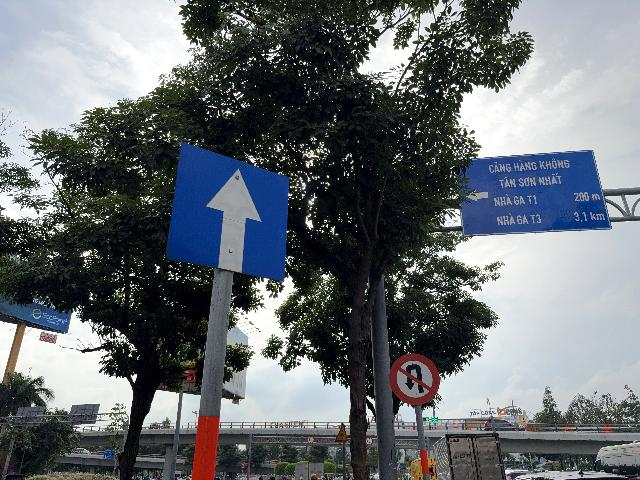cam-quay-dau-xe: (389, 353, 440, 405)
duong-mot-chieu: (165, 143, 289, 281)
